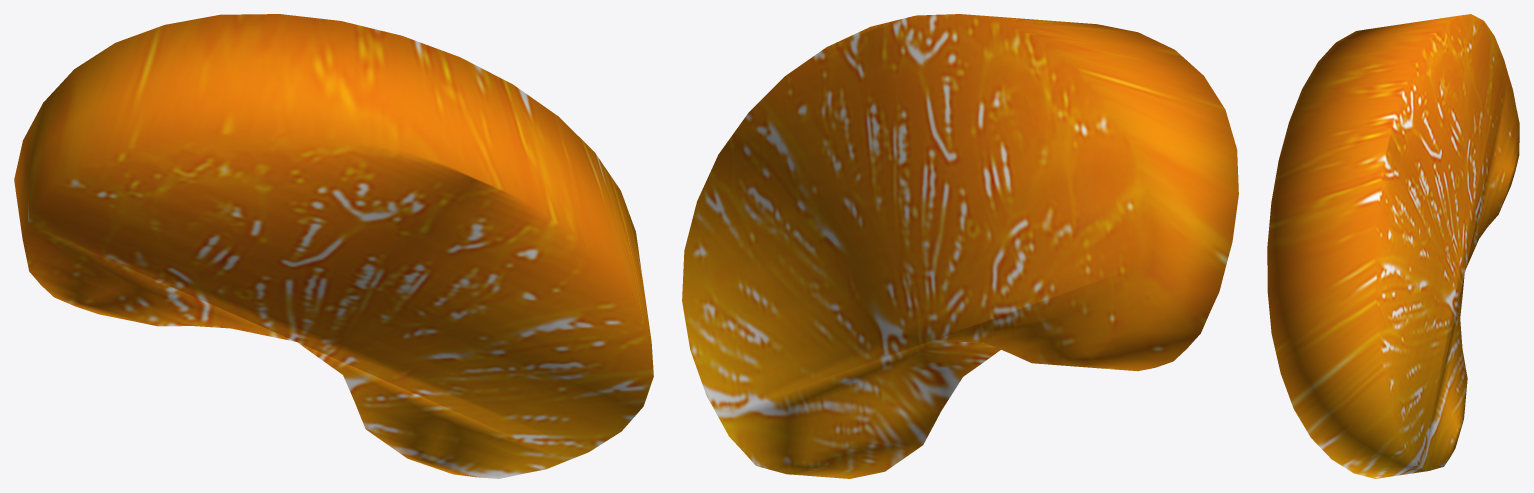
The model's file is mikan.glb.
3 renders of one model, left to right at view 1: azimuth 30°, elevation 25°; view 2: azimuth 150°, elevation 25°; view 3: azimuth 270°, elevation 25°, orthographic. The views are drawn at different scales.
Visible parts, largest first — view 1: mikan.001; view 2: mikan.001; view 3: mikan.001.
Boxes of the visible parts, x1,y1,x2,y2 form: mikan.001: (14, 14, 653, 478); mikan.001: (682, 14, 1238, 478); mikan.001: (1267, 14, 1519, 478).
Bounding box in the file's own units: 1.18 × 0.9925 × 0.6287.
1 material, 1 textured.
